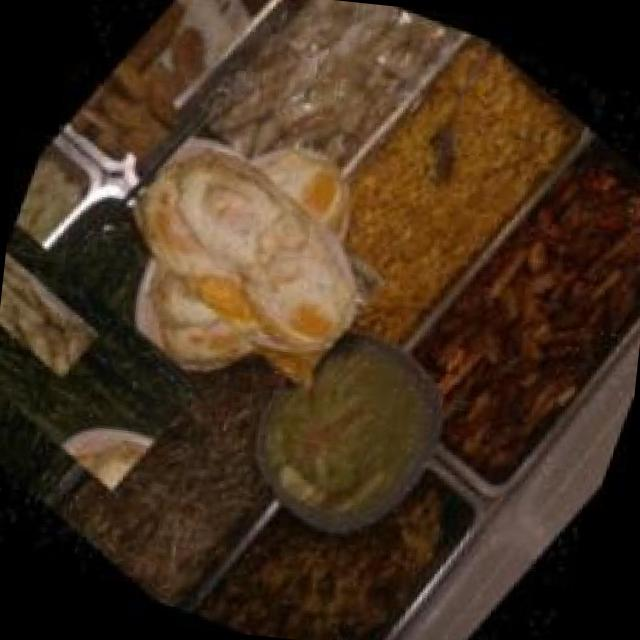chicken_nuggets: (62, 42, 194, 178)
chinese_cabbage: (0, 192, 111, 409)
fried_eggs: (89, 90, 416, 418)
mung_bean_sprouts: (39, 368, 298, 630)
triangle_hash_brown: (196, 0, 323, 23)
water_spinach: (0, 206, 227, 520)
